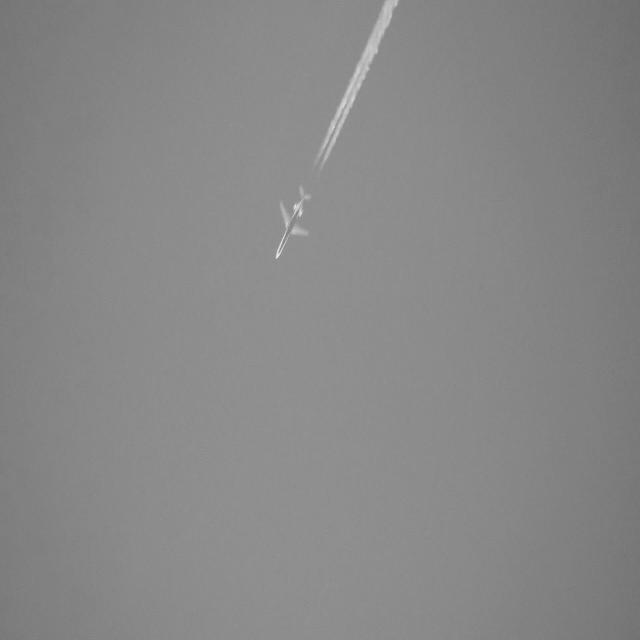aeroplane: (275, 180, 311, 264)
